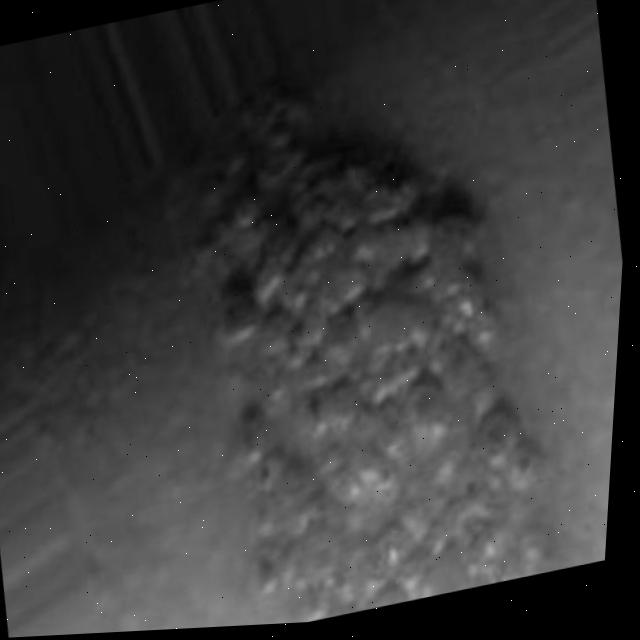Shingles: (201, 81, 565, 628)
